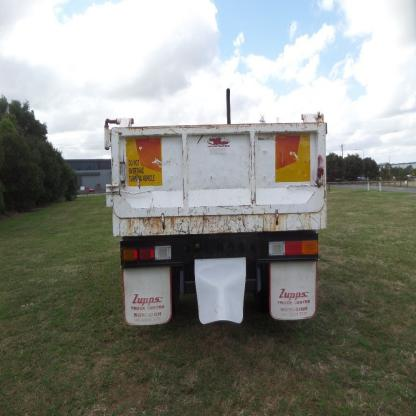dump_truck: (93, 85, 327, 336)
